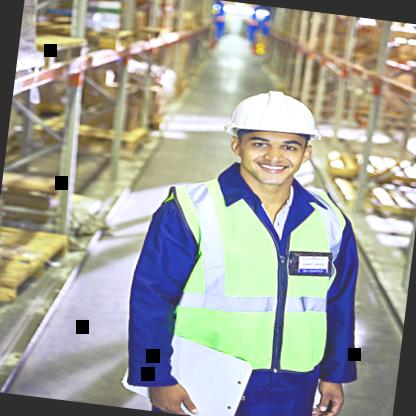helmet: (206, 78, 333, 202)
